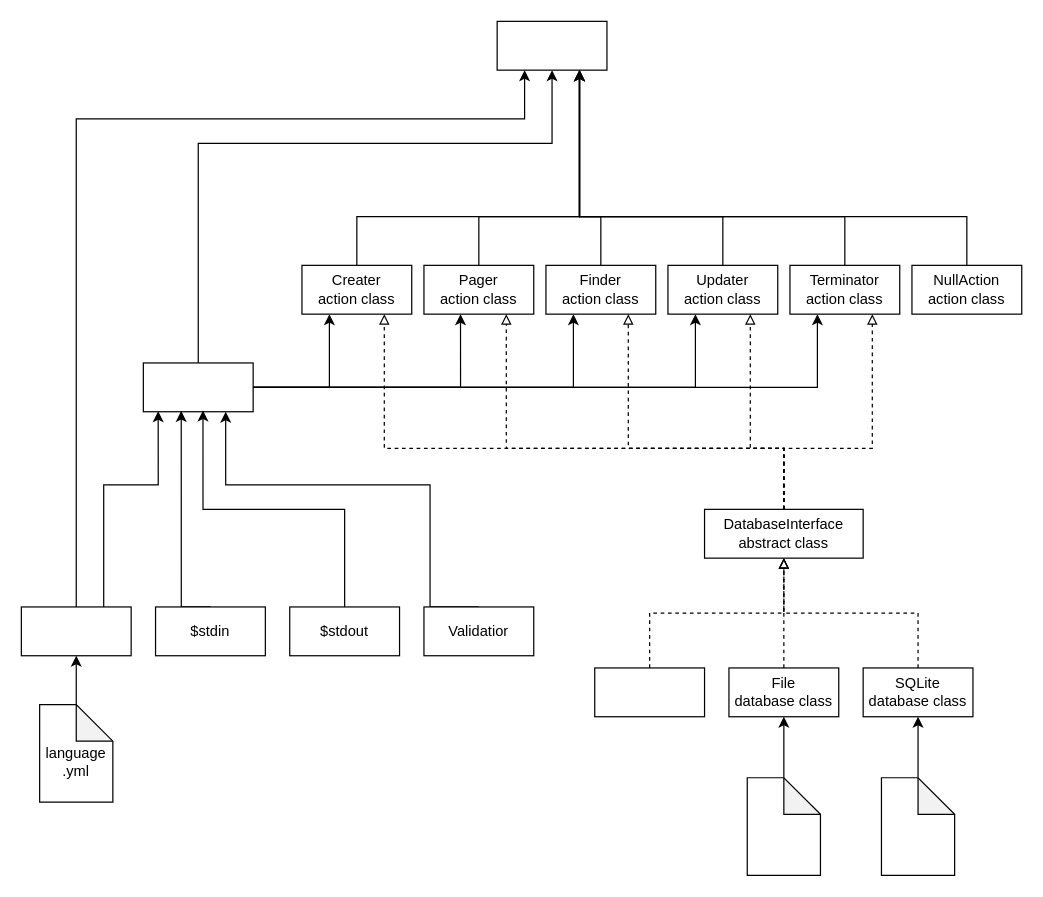
This 1043x897 diagram has some shape labels left out. The centre of each missing label's shape, as x and y in pixels:
Array database class: the point at 649,692
contacts .json: the point at 783,826
Controler cli class: the point at 551,45
LanguageParser: the point at 75,631
SQLite3 .db: the point at 917,826
UserInterface cli class: the point at 197,387
